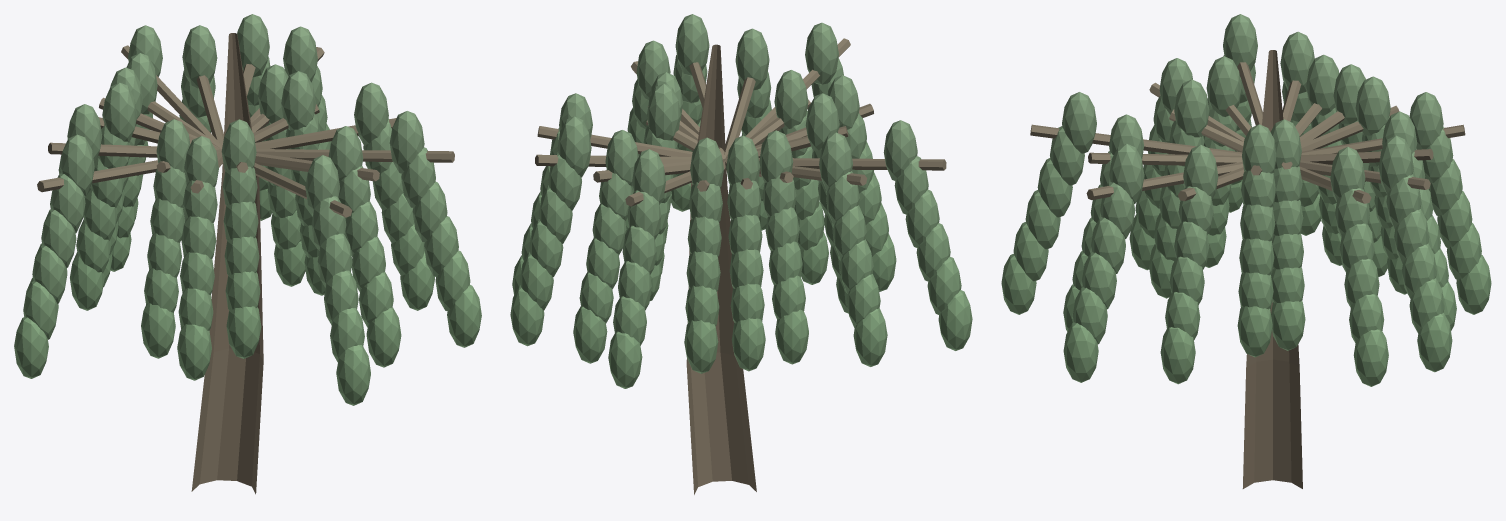
File: river_willow.glb
The picture shows the model from 3 angles, left to right: view 1: azimuth 30°, elevation 25°; view 2: azimuth 150°, elevation 25°; view 3: azimuth 270°, elevation 25°; orthographic projection. The views are drawn at different scales.
Parts seen in each view (by area): view 1: river_willow_0, river_willow_7, river_willow_23, river_willow_58, river_willow_105, river_willow_30, river_willow_119, river_willow_86, river_willow_14, river_willow_16, river_willow_21, river_willow_112 (+67 smaller); view 2: river_willow_0, river_willow_2, river_willow_9, river_willow_16, river_willow_121, river_willow_70, river_willow_37, river_willow_105, river_willow_77, river_willow_98, river_willow_51, river_willow_84 (+64 smaller); view 3: river_willow_0, river_willow_21, river_willow_107, river_willow_72, river_willow_49, river_willow_2, river_willow_28, river_willow_121, river_willow_56, river_willow_35, river_willow_93, river_willow_100 (+65 smaller).
Part boxes in pixels (box(x1,y1,x2,y2)): river_willow_0: box(191, 33, 263, 494); river_willow_7: box(336, 345, 370, 405); river_willow_23: box(354, 82, 388, 145); river_willow_58: box(182, 25, 217, 88); river_willow_105: box(14, 317, 48, 378); river_willow_30: box(281, 71, 315, 130); river_willow_119: box(177, 324, 211, 380); river_willow_86: box(102, 82, 136, 142); river_willow_14: box(366, 307, 401, 367); river_willow_16: box(389, 111, 424, 173); river_willow_21: box(447, 285, 481, 347); river_willow_112: box(141, 303, 175, 358); river_willow_0: box(686, 44, 756, 494); river_willow_2: box(805, 22, 838, 84); river_willow_9: box(735, 28, 769, 90); river_willow_16: box(675, 14, 709, 76); river_willow_121: box(774, 70, 808, 128); river_willow_70: box(608, 331, 642, 388); river_willow_37: box(647, 83, 680, 140); river_willow_105: box(938, 290, 972, 350); river_willow_77: box(684, 320, 718, 373); river_willow_98: box(853, 308, 887, 366); river_willow_51: box(557, 116, 591, 177); river_willow_84: box(731, 318, 765, 371); river_willow_0: box(1242, 50, 1302, 488); river_willow_21: box(1063, 322, 1098, 382); river_willow_107: box(1206, 56, 1241, 116); river_willow_72: box(1355, 76, 1390, 136); river_willow_49: box(1353, 329, 1388, 386); river_willow_2: box(1062, 92, 1096, 153); river_willow_28: box(1160, 327, 1195, 384); river_willow_121: box(1174, 79, 1209, 137); river_willow_56: box(1417, 313, 1452, 372); river_willow_35: box(1237, 306, 1272, 357); river_willow_93: box(1280, 31, 1314, 94); river_willow_100: box(1223, 14, 1257, 76).
Bounding box in the file's own units: 6.34 × 7 × 6.96.
